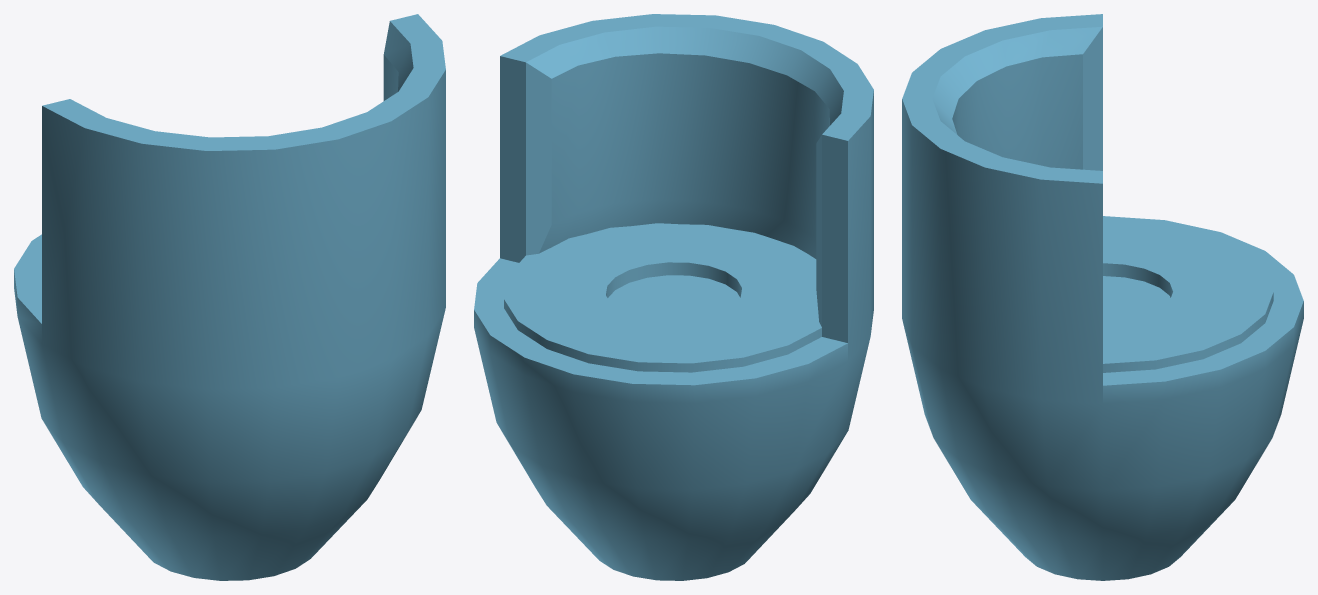
Rendered from chair.fbx.
The picture shows the model from 3 angles, left to right: view 1: azimuth 30°, elevation 25°; view 2: azimuth 150°, elevation 25°; view 3: azimuth 270°, elevation 25°; orthographic projection. The views are drawn at different scales.
Parts seen in each view (by area): view 1: chair; view 2: chair; view 3: chair.
Part boxes in pixels (x1,y1,x2,y2): chair: [14, 14, 445, 580]; chair: [474, 14, 873, 580]; chair: [902, 14, 1303, 580].
Size of the model in its own units: 4.61 by 5.67 by 4.61.
